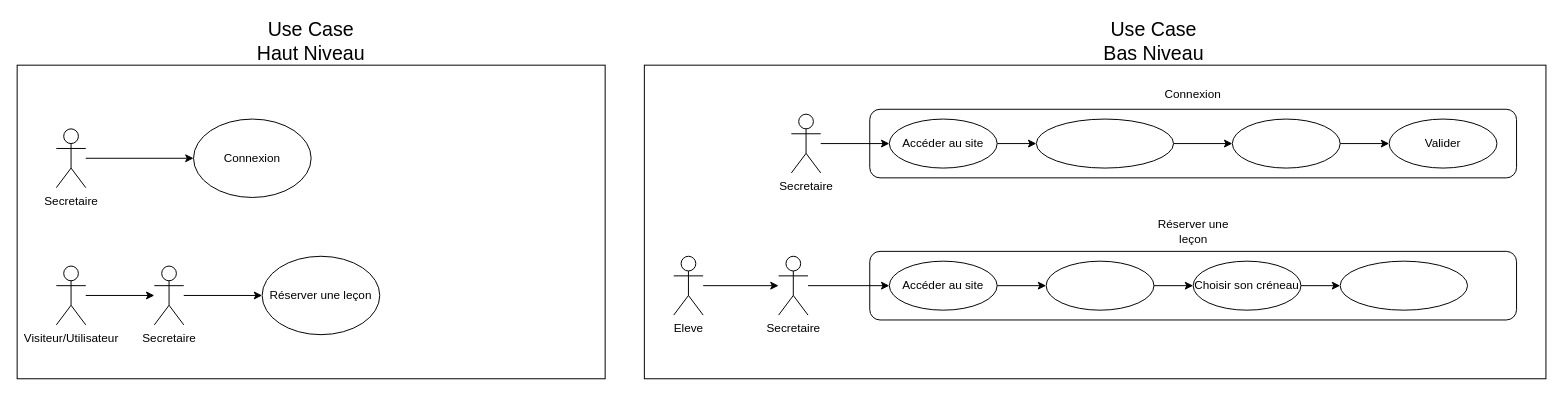
This 1563x396 diagram has some shape labels left out. The centre of each missing label's shape, as x and y in pixels:
Cliquer sur le bouton "connexion": [1104,143]
Cliquer sur le bouton "leçons": [1099,285]
Saisir les informations: [1285,143]
Valider le RDV: [1403,285]
